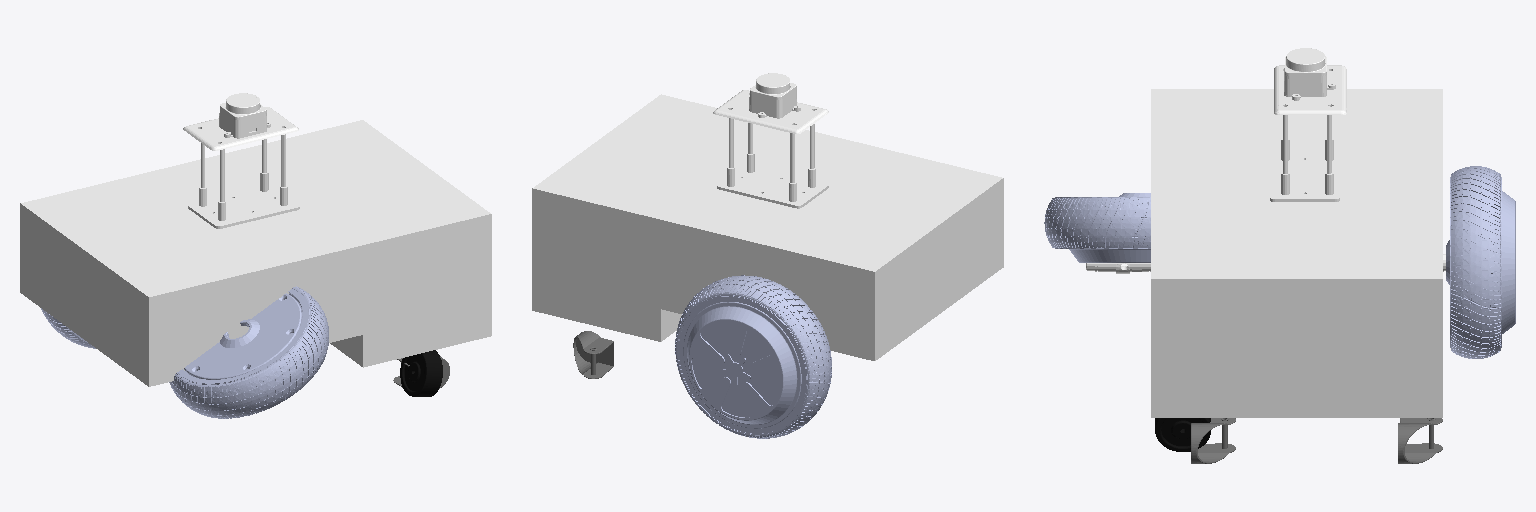
The robot description file, URDF, robot "waiter_robot_1":
<?xml version="1.0" encoding="utf-8"?>
<!-- This URDF was automatically created by SolidWorks to URDF Exporter! Originally created by [author] ([email redacted]) 
     Commit Version: 1.6.0-4-g7f85cfe  Build Version: 1.6.7995.38578
     For more information, please see http://wiki.ros.org/sw_urdf_exporter -->
<robot
  name="waiter_robot_1">
  <link
    name="base_link">
    <inertial>
      <origin
        xyz="-0.068688 0.12292 -0.038615"
        rpy="0 0 0" />
      <mass
        value="4.3045" />
      <inertia
        ixx="0.051134"
        ixy="-5.7053E-08"
        ixz="-4.8944E-08"
        iyy="0.070862"
        iyz="-1.5815E-08"
        izz="0.02574" />
    </inertial>
    <visual>
      <origin
        xyz="0 0 0"
        rpy="0 0 0" />
      <geometry>
        <mesh
          filename="package://waiter_robot_1/meshes/base_link.STL" />
      </geometry>
      <material
        name="">
        <color
          rgba="1 1 1 1" />
      </material>
    </visual>
    <collision>
      <origin
        xyz="0 0 0"
        rpy="0 0 0" />
      <geometry>
        <mesh
          filename="package://waiter_robot_1/meshes/base_link.STL" />
      </geometry>
    </collision>
  </link>
  <link
    name="wheel_L_link">
    <inertial>
      <origin
        xyz="1.8976E-08 1.8319E-09 -0.033574"
        rpy="0 0 0" />
      <mass
        value="0.65022" />
      <inertia
        ixx="0.0015508"
        ixy="4.122E-10"
        ixz="-1.5313E-10"
        iyy="0.0015508"
        iyz="-2.3998E-11"
        izz="0.0029007" />
    </inertial>
    <visual>
      <origin
        xyz="0 0 0"
        rpy="0 0 0" />
      <geometry>
        <mesh
          filename="package://waiter_robot_1/meshes/wheel_L_link.STL" />
      </geometry>
      <material
        name="">
        <color
          rgba="0.79216 0.81961 0.93333 1" />
      </material>
    </visual>
    <collision>
      <origin
        xyz="0 0 0"
        rpy="0 0 0" />
      <geometry>
        <mesh
          filename="package://waiter_robot_1/meshes/wheel_L_link.STL" />
      </geometry>
    </collision>
  </link>
  <joint
    name="wheel_L_joint"
    type="continuous">
    <origin
      xyz="-0.075 0.1942 -0.0125"
      rpy="-1.5708 0 0" />
    <parent
      link="base_link" />
    <child
      link="wheel_L_link" />
    <axis
      xyz="0 0 1" />
  </joint>
  <link
    name="wheel_R_link">
    <inertial>
      <origin
        xyz="-1.7975E-08 -0.021726 6.351E-09"
        rpy="0 0 0" />
      <mass
        value="0.65022" />
      <inertia
        ixx="0.0015508"
        ixy="-1.4895E-10"
        ixz="3.3241E-10"
        iyy="0.0029007"
        iyz="4.2896E-11"
        izz="0.0015508" />
    </inertial>
    <visual>
      <origin
        xyz="0 0 0"
        rpy="0 0 0" />
      <geometry>
        <mesh
          filename="package://waiter_robot_1/meshes/wheel_R_link.STL" />
      </geometry>
      <material
        name="">
        <color
          rgba="0.79216 0.81961 0.93333 1" />
      </material>
    </visual>
    <collision>
      <origin
        xyz="0 0 0"
        rpy="0 0 0" />
      <geometry>
        <mesh
          filename="package://waiter_robot_1/meshes/wheel_R_link.STL" />
      </geometry>
    </collision>
  </link>
  <joint
    name="wheel_R_joint"
    type="continuous">
    <origin
      xyz="-0.075 -0.1389 -0.0125"
      rpy="0 -0.43586 0" />
    <parent
      link="base_link" />
    <child
      link="wheel_R_link" />
    <axis
      xyz="0 0 1" />
  </joint>
  <link
    name="castor_base_L_link">
    <inertial>
      <origin
        xyz="-0.0098504 -0.026563 -0.00015509"
        rpy="0 0 0" />
      <mass
        value="0.035111" />
      <inertia
        ixx="9.0133E-06"
        ixy="1.704E-06"
        ixz="-2.4444E-10"
        iyy="1.021E-05"
        iyz="3.4024E-10"
        izz="8.4218E-06" />
    </inertial>
    <visual>
      <origin
        xyz="0 0 0"
        rpy="0 0 0" />
      <geometry>
        <mesh
          filename="package://waiter_robot_1/meshes/castor_base_L_link.STL" />
      </geometry>
      <material
        name="">
        <color
          rgba="0.5 0.5 0.5 1" />
      </material>
    </visual>
    <collision>
      <origin
        xyz="0 0 0"
        rpy="0 0 0" />
      <geometry>
        <mesh
          filename="package://waiter_robot_1/meshes/castor_base_L_link.STL" />
      </geometry>
    </collision>
  </link>
  <joint
    name="castor_base_L_joint"
    type="continuous">
    <origin
      xyz="0.15472 0.0925 -0.0831"
      rpy="-1.5708 0 0" />
    <parent
      link="base_link" />
    <child
      link="castor_base_L_link" />
    <axis
      xyz="0 0 1" />
  </joint>
  <link
    name="castor_wheel_L_link">
    <inertial>
      <origin
        xyz="-3.8164E-17 -0.01 1.249E-16"
        rpy="0 0 0" />
      <mass
        value="0.033671" />
      <inertia
        ixx="6.366E-06"
        ixy="-4.7629E-21"
        ixz="6.3527E-22"
        iyy="1.0844E-05"
        iyz="1.3927E-21"
        izz="6.366E-06" />
    </inertial>
    <visual>
      <origin
        xyz="0 0 0"
        rpy="0 0 0" />
      <geometry>
        <mesh
          filename="package://waiter_robot_1/meshes/castor_wheel_L_link.STL" />
      </geometry>
      <material
        name="">
        <color
          rgba="0.1098 0.1098 0.1098 1" />
      </material>
    </visual>
    <collision>
      <origin
        xyz="0 0 0"
        rpy="0 0 0" />
      <geometry>
        <mesh
          filename="package://waiter_robot_1/meshes/castor_wheel_L_link.STL" />
      </geometry>
    </collision>
  </link>
  <joint
    name="castor_wheel_L_joint"
    type="continuous">
    <origin
      xyz="-0.019934 -0.01 -0.01"
      rpy="-1.5708 0 1.8312" />
    <parent
      link="castor_base_L_link" />
    <child
      link="castor_wheel_L_link" />
    <axis
      xyz="0 0 1" />
  </joint>
  <link
    name="castor_base_R_link">
    <inertial>
      <origin
        xyz="-0.0098504 -0.026563 -0.00015509"
        rpy="0 0 0" />
      <mass
        value="0.035111" />
      <inertia
        ixx="9.0133E-06"
        ixy="1.704E-06"
        ixz="-2.4444E-10"
        iyy="1.021E-05"
        iyz="3.4024E-10"
        izz="8.4218E-06" />
    </inertial>
    <visual>
      <origin
        xyz="0 0 0"
        rpy="0 0 0" />
      <geometry>
        <mesh
          filename="package://waiter_robot_1/meshes/castor_base_R_link.STL" />
      </geometry>
      <material
        name="">
        <color
          rgba="0.5 0.5 0.5 1" />
      </material>
    </visual>
    <collision>
      <origin
        xyz="0 0 0"
        rpy="0 0 0" />
      <geometry>
        <mesh
          filename="package://waiter_robot_1/meshes/castor_base_R_link.STL" />
      </geometry>
    </collision>
  </link>
  <joint
    name="castor_base_R_joint"
    type="continuous">
    <origin
      xyz="0.15472 -0.0915 -0.0831"
      rpy="-1.5708 0 0" />
    <parent
      link="base_link" />
    <child
      link="castor_base_R_link" />
    <axis
      xyz="0 0 1" />
  </joint>
  <link
    name="castor_wheel_R_link">
    <inertial>
      <origin
        xyz="-5.2042E-17 -0.01 1.1102E-16"
        rpy="0 0 0" />
      <mass
        value="0.033671" />
      <inertia
        ixx="6.366E-06"
        ixy="-4.2415E-21"
        ixz="-4.2352E-22"
        iyy="1.0844E-05"
        iyz="2.1641E-22"
        izz="6.366E-06" />
    </inertial>
    <visual>
      <origin
        xyz="0 0 0"
        rpy="0 0 0" />
      <geometry>
        <mesh
          filename="package://waiter_robot_1/meshes/castor_wheel_R_link.STL" />
      </geometry>
      <material
        name="">
        <color
          rgba="0.1098 0.1098 0.1098 1" />
      </material>
    </visual>
    <collision>
      <origin
        xyz="0 0 0"
        rpy="0 0 0" />
      <geometry>
        <mesh
          filename="package://waiter_robot_1/meshes/castor_wheel_R_link.STL" />
      </geometry>
    </collision>
  </link>
  <joint
    name="castor_wheel_R_joint"
    type="continuous">
    <origin
      xyz="-0.019934 -0.01 -0.01"
      rpy="-1.5708 0 1.8312" />
    <parent
      link="castor_base_R_link" />
    <child
      link="castor_wheel_R_link" />
    <axis
      xyz="0 0 1" />
  </joint>
</robot>

--- Facts derived from the render (not from the file) ---
The picture shows the robot from 3 angles, left to right: view 1: azimuth 30°, elevation 25°; view 2: azimuth 150°, elevation 25°; view 3: azimuth 270°, elevation 25°; orthographic projection.
Model waiter_robot_1 with 7 links and 6 joints (6 continuous), rooted at base_link, posed every joint at zero.
Links seen in each view (by area): view 1: base_link, wheel_R_link, castor_wheel_R_link; view 2: base_link, wheel_L_link, castor_base_L_link; view 3: base_link, wheel_L_link, wheel_R_link, castor_base_L_link, castor_base_R_link, castor_wheel_R_link.
Link boxes in pixels (x1,y1,x2,y2): base_link: [20, 93, 491, 386]; wheel_R_link: [169, 286, 328, 418]; castor_wheel_R_link: [400, 350, 442, 396]; base_link: [532, 73, 1003, 360]; wheel_L_link: [675, 275, 831, 438]; castor_base_L_link: [573, 331, 613, 378]; base_link: [1086, 48, 1445, 417]; wheel_L_link: [1446, 166, 1515, 358]; wheel_R_link: [1044, 193, 1150, 262]; castor_base_L_link: [1398, 418, 1442, 463]; castor_base_R_link: [1191, 418, 1235, 463]; castor_wheel_R_link: [1155, 418, 1210, 451].
Size in the robot's own frame: 0.4 by 0.4191 by 0.3214 metres.
6 mesh visuals loaded from 7 distinct referenced files (6 binary STL); not drawn: 1 (reference not matched to a file when rendering).